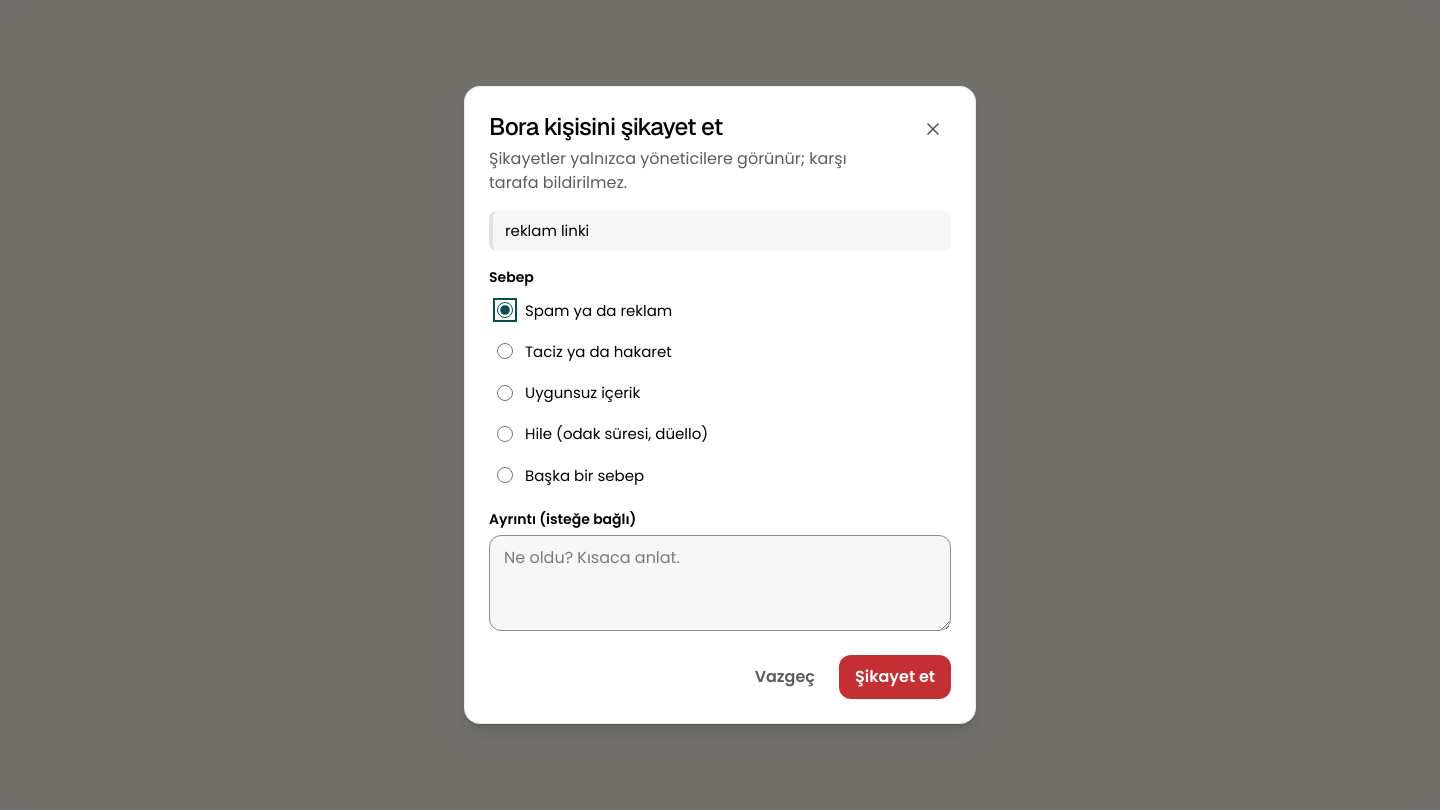
ReportDialog › sends the chosen reason, details and message id
Expected: the text "reklam linki" is shown, [489, 211, 951, 251]
Click the radio button labelled "Taciz ya da hakaret". click: click(505, 352)
box: [497, 344, 513, 360]
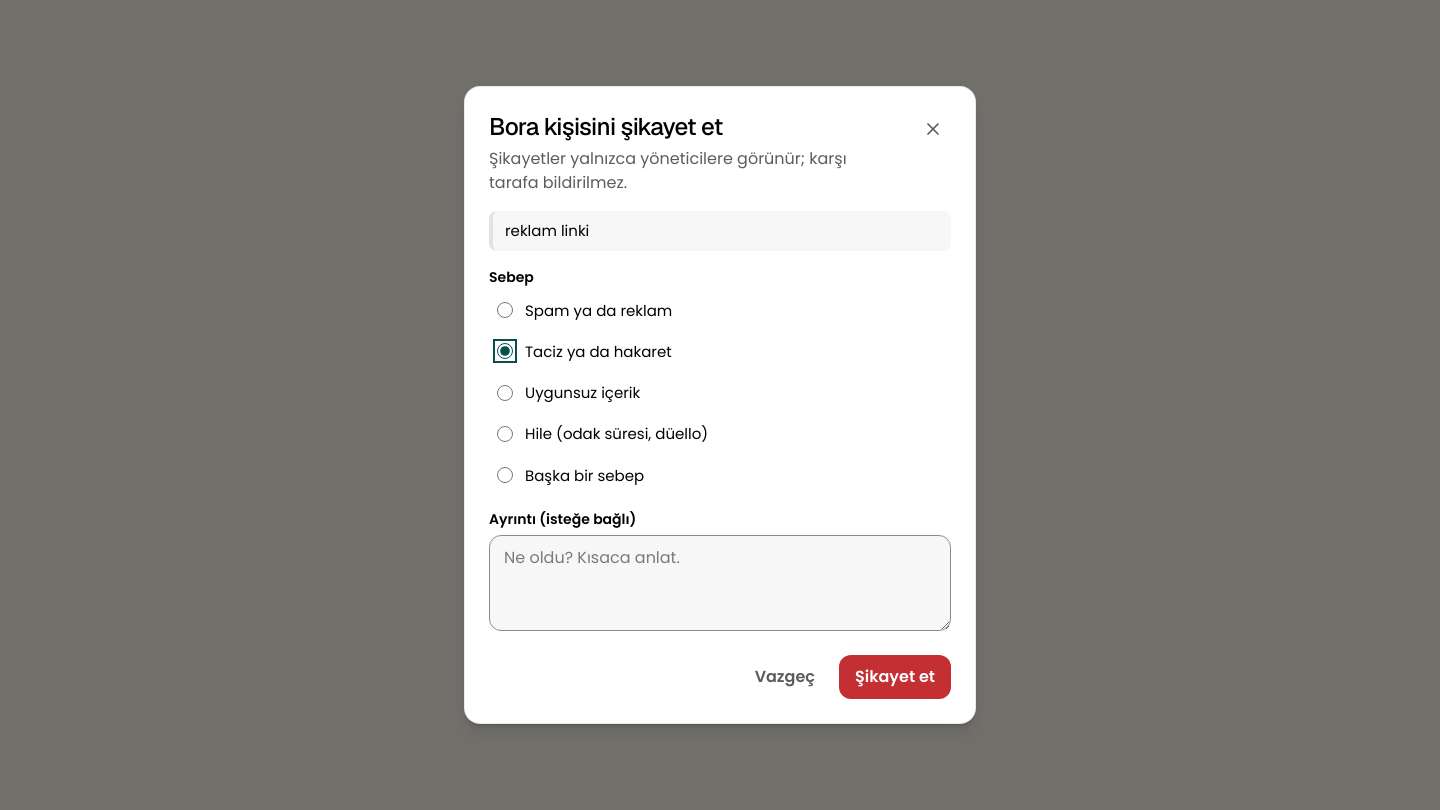
Type "  sohbette hakaret etti  " into the text box labelled "Ayrıntı (isteğe bağlı)". click: (720, 583)
box: [489, 535, 951, 631]
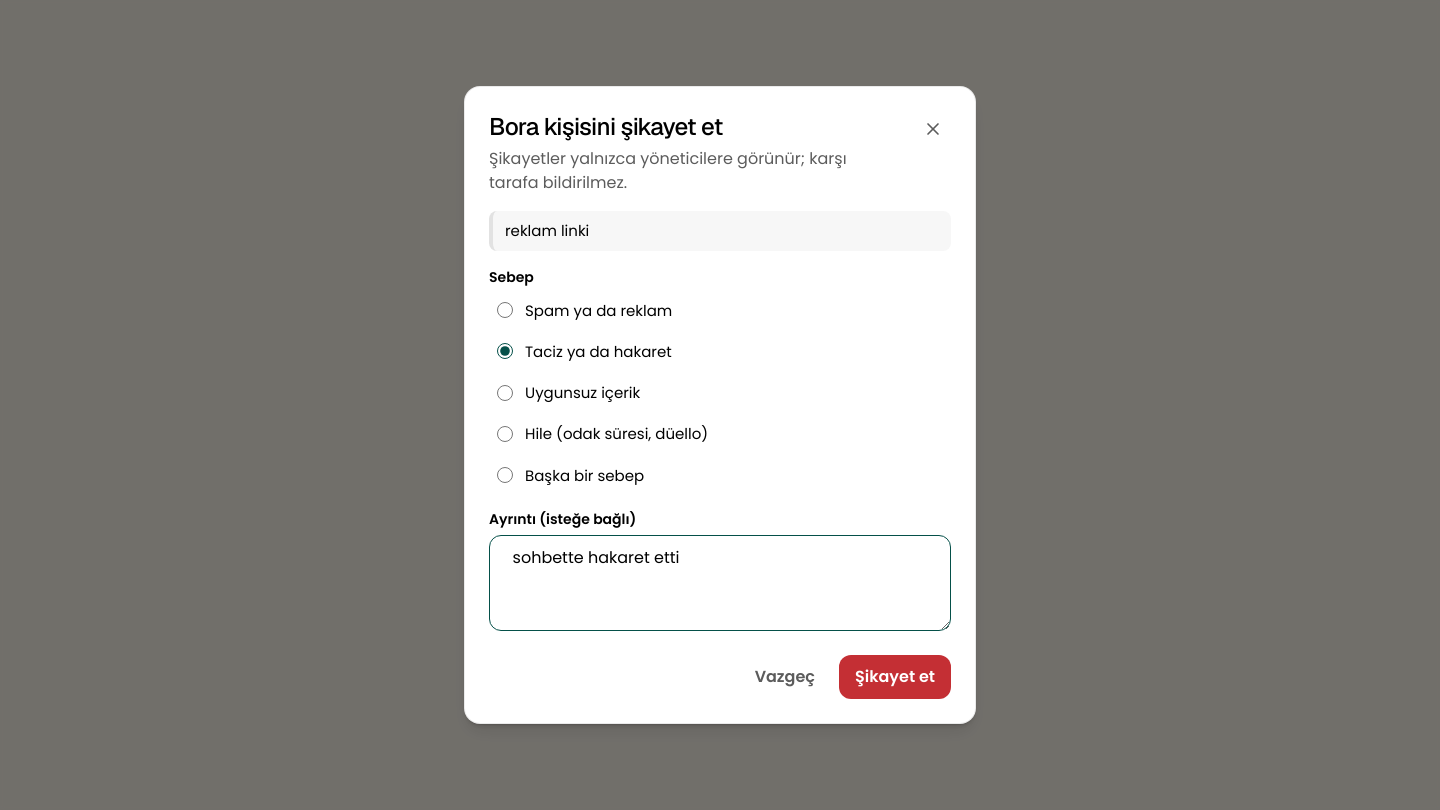
Click the button "Şikayet et". click: click(895, 677)
box: [839, 655, 951, 699]
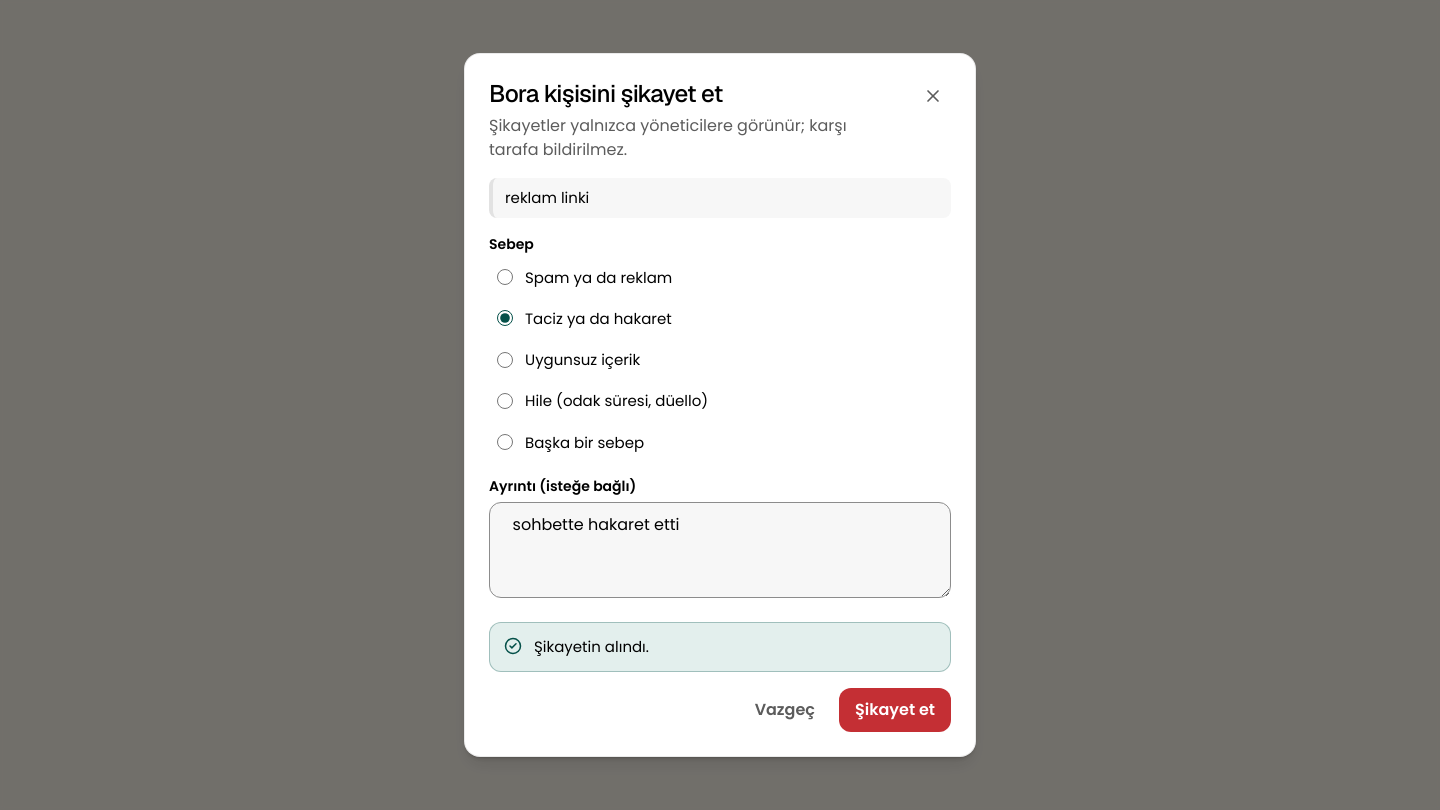
Expected: the text "Şikayetin alındı." is shown, [534, 636, 649, 657]
